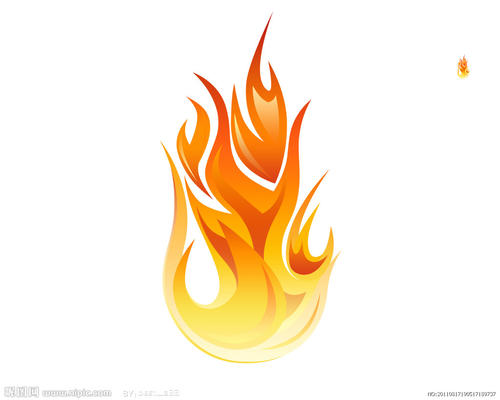fire: (175, 65, 321, 348)
